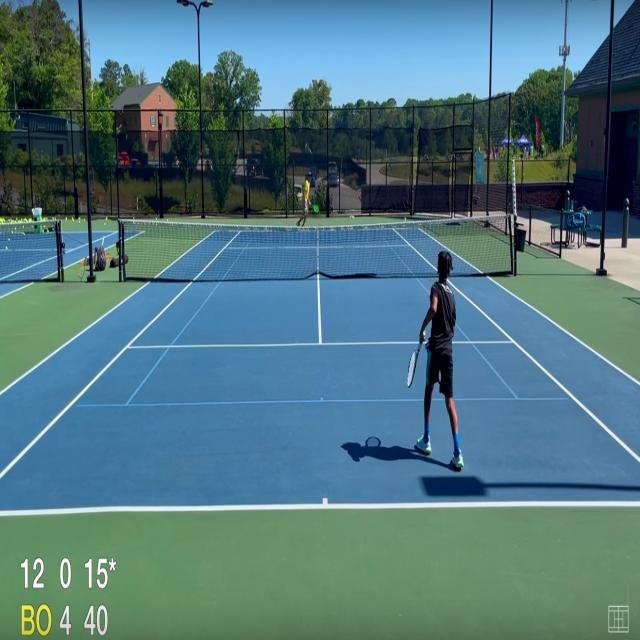ball: (404, 217, 406, 222)
